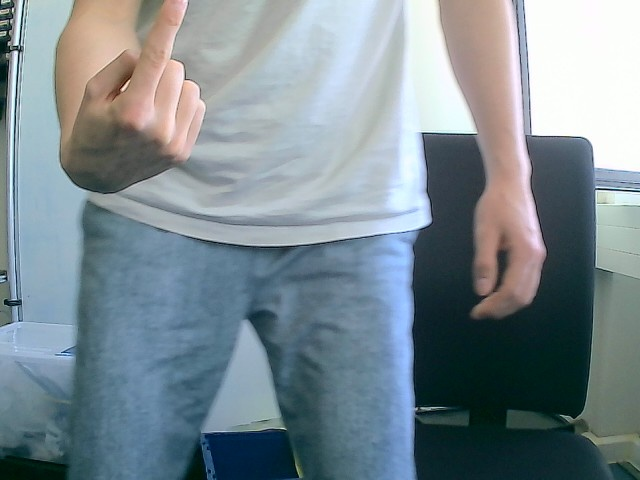up: (67, 0, 207, 195)
